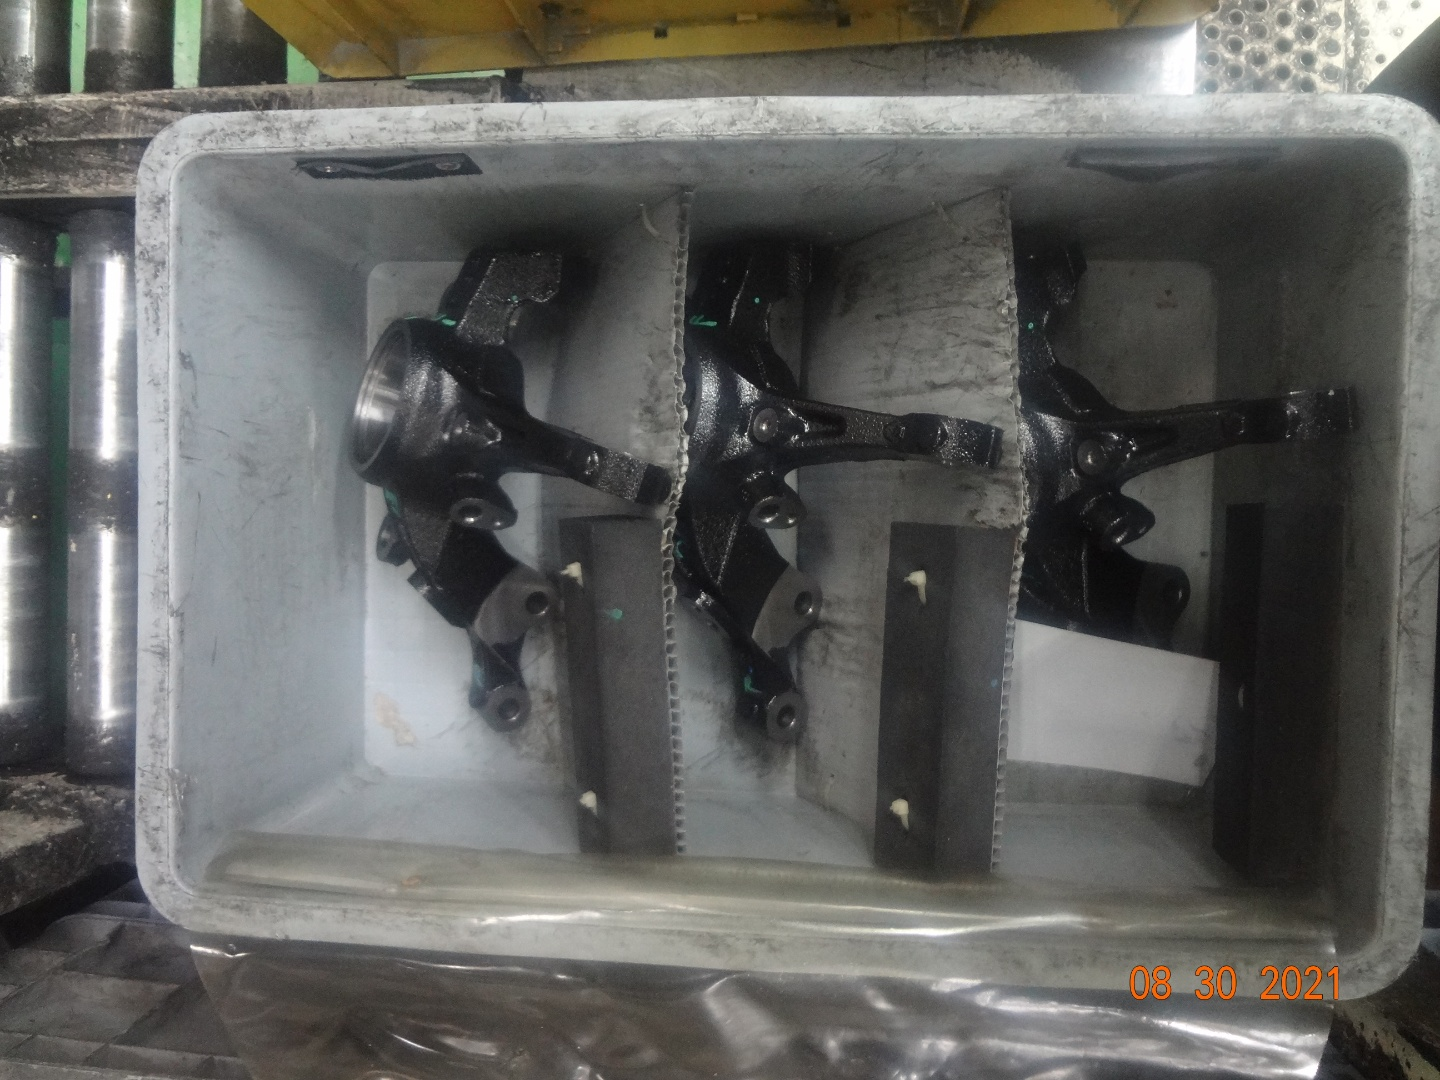abs-rh: (1001, 214, 1365, 756), (676, 228, 1006, 767), (339, 227, 674, 757)
